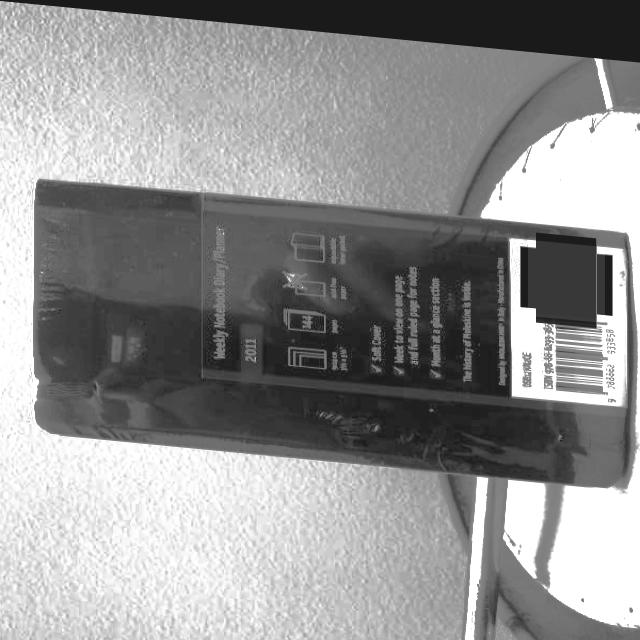qr_code: (528, 228, 605, 309)
